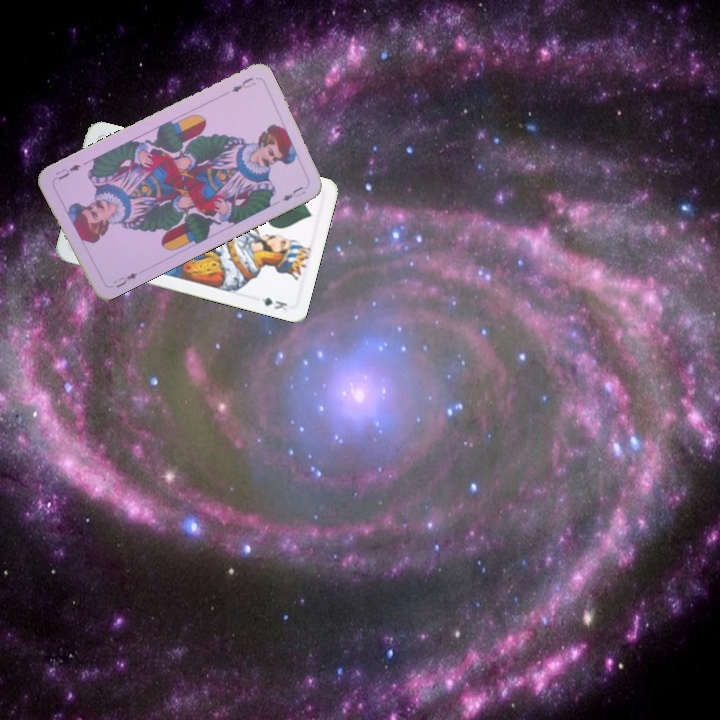EU: (109, 268, 140, 291), (228, 73, 258, 95)
